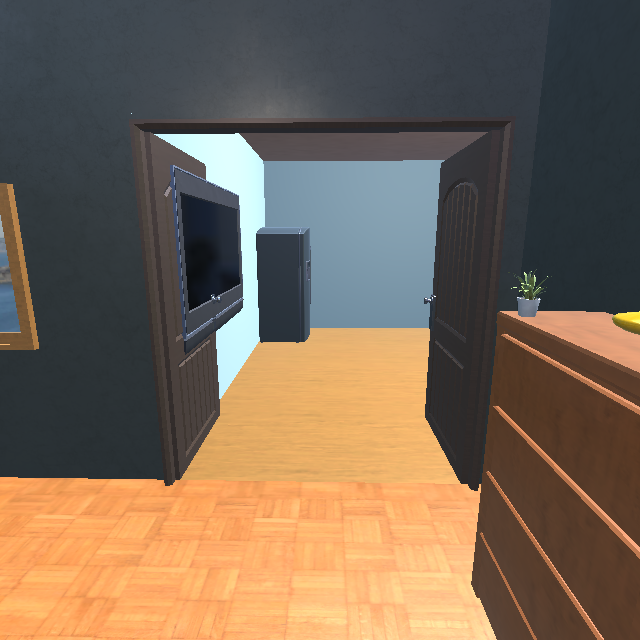open_doorway: (129, 116, 515, 490)
